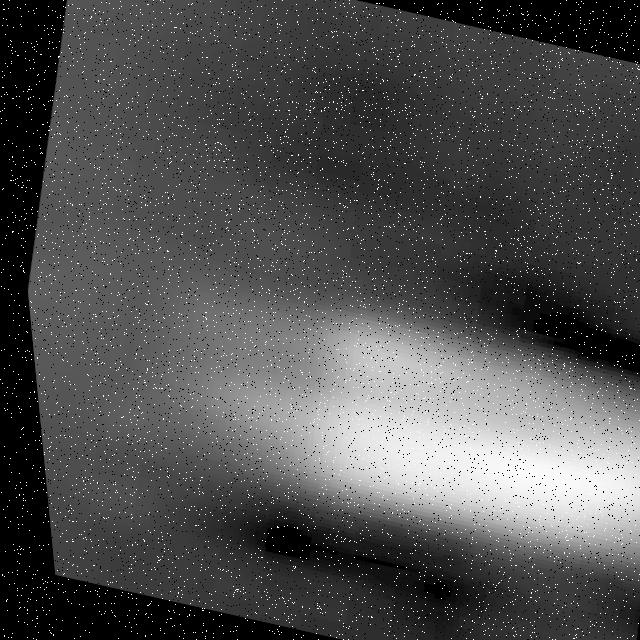person: (119, 252, 640, 583)
